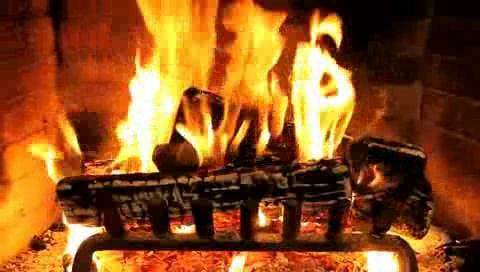fire: (129, 1, 348, 179)
